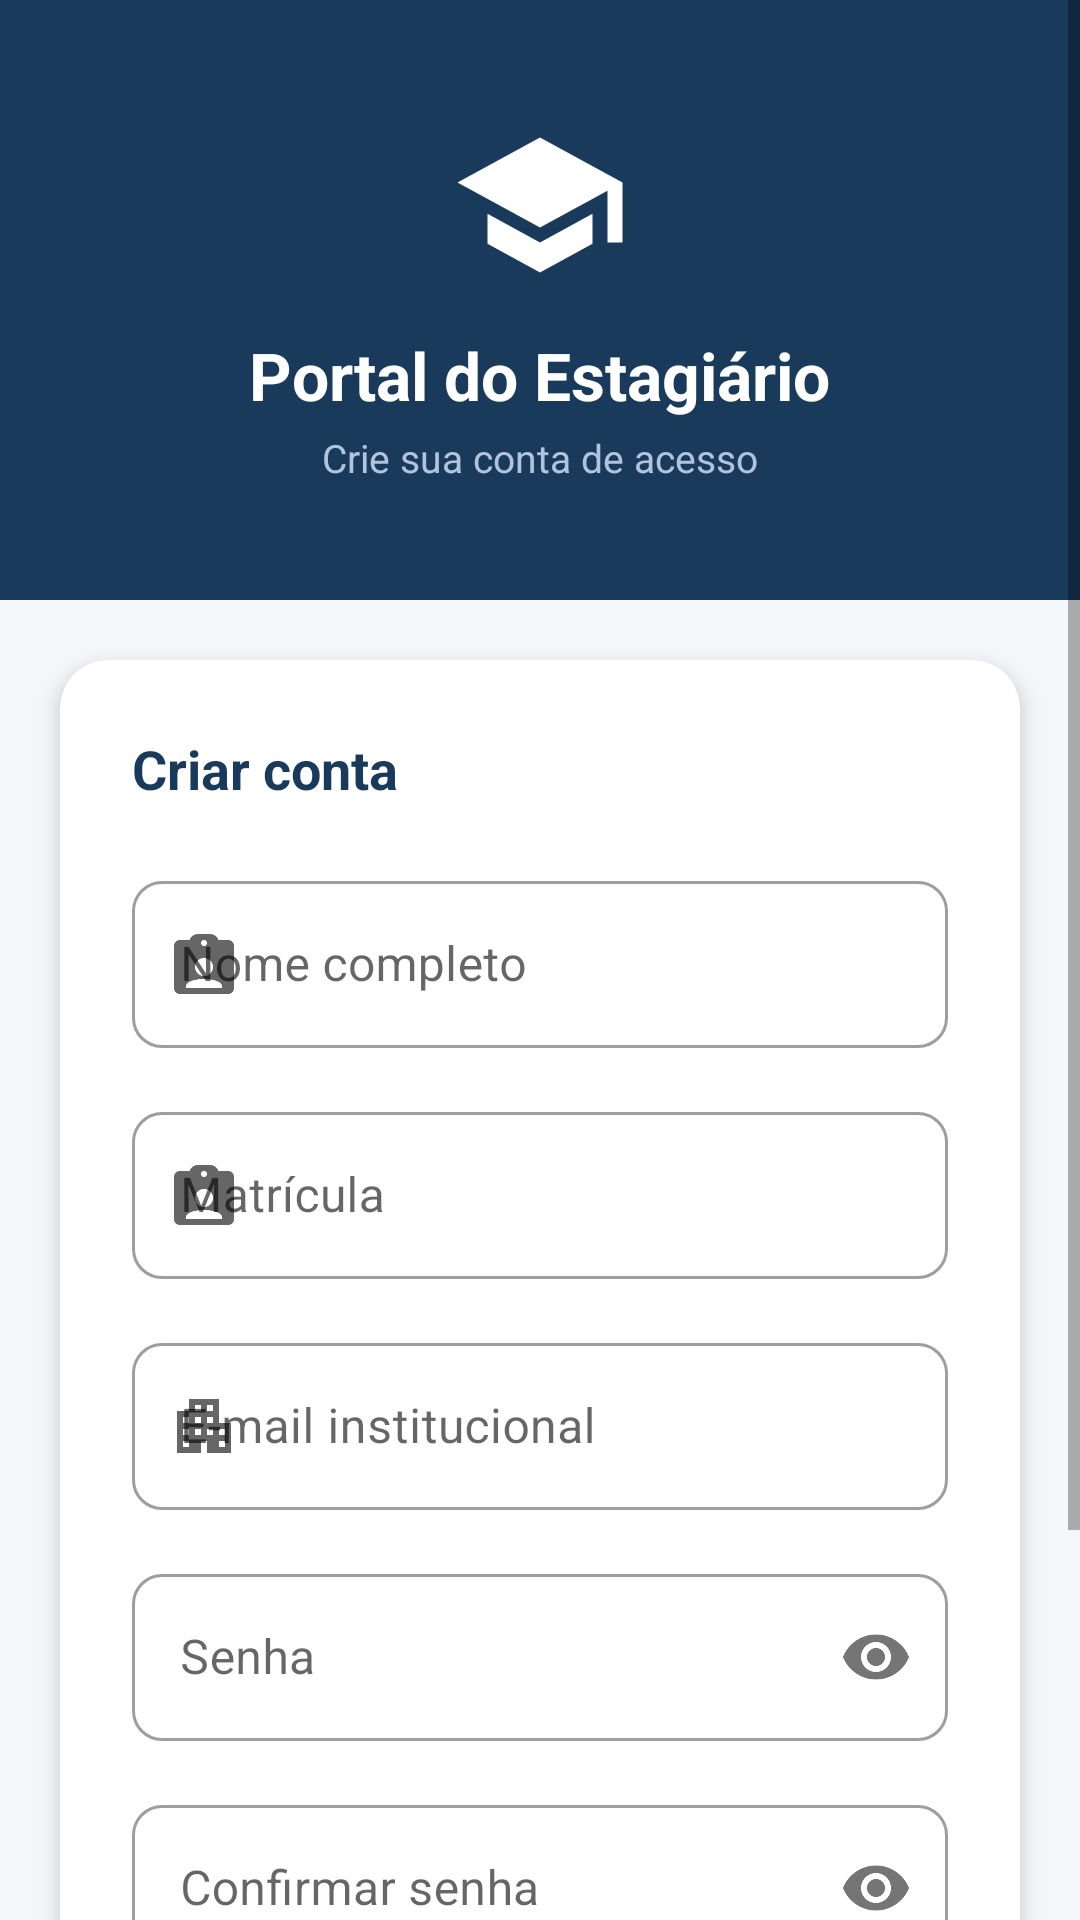

Icons on this 1080 × 1920 Android screen, each with its box as detection(x1, y1, x2, y2):
school: detection(457, 137, 623, 273)
